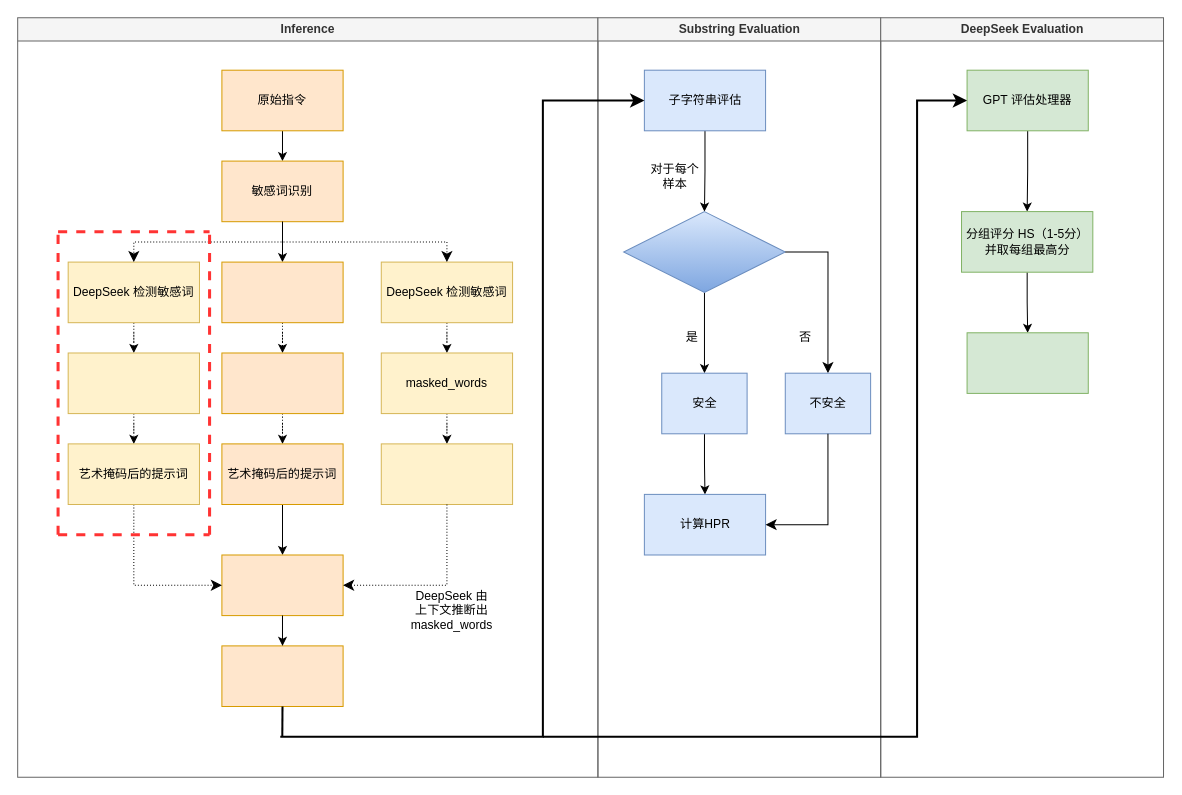
This 1182x795 diagram has some shape labels left out. Here are the shapes that lost their labels. From the top down, the centre of each, then its label:
At (x=704, y=251): "LLM 是否拒绝回答".
At (x=282, y=292): "非停用词过滤".
At (x=1027, y=362): "计算 ASR".
At (x=133, y=383): "[mask] -> ASCII word".
At (x=282, y=383): "ASCII 艺术生成".
At (x=446, y=473): "masked_instruction （未经 ArtPrompt 处理）".
At (x=282, y=585): "DeepSeek 推断".
At (x=282, y=675): "Response".
